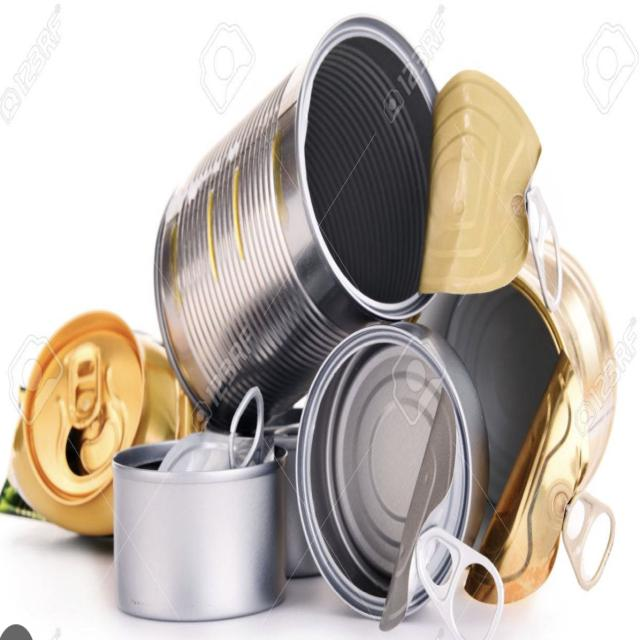recyclable: (149, 9, 565, 434), (295, 312, 511, 633), (12, 292, 192, 545), (98, 426, 308, 625)
